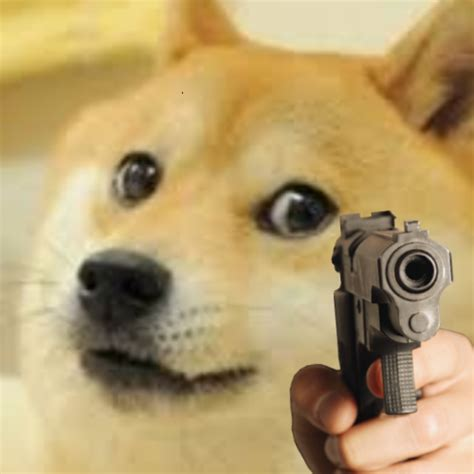gun: (331, 209, 456, 430)
